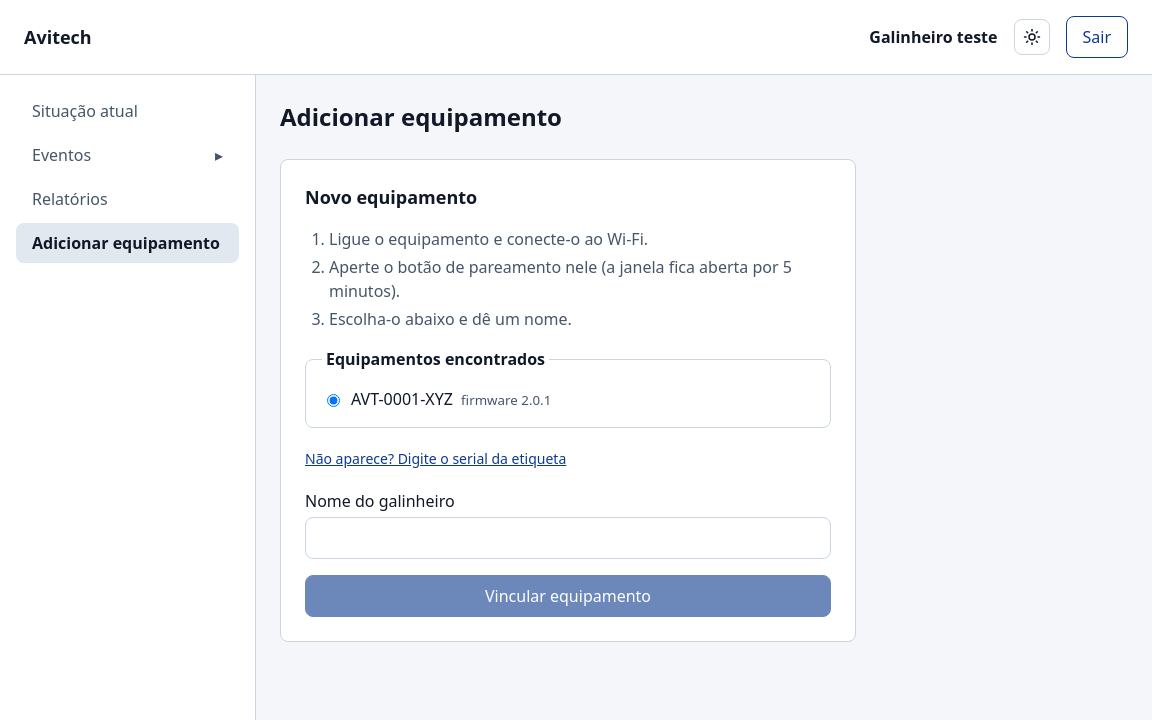
Test: Adicionar equipamento (logado) › erro 409 (PAIRING_CLOSED) mostra a mensagem para o produtor
Expected: the radio button labelled "AVT-0001-XYZ firmware 2.0.1" is shown, [327, 394, 340, 407]
Type "Novo" into the field labelled "Nome do galinheiro".
click(568, 538); type("Novo")  # box [305, 517, 831, 559]
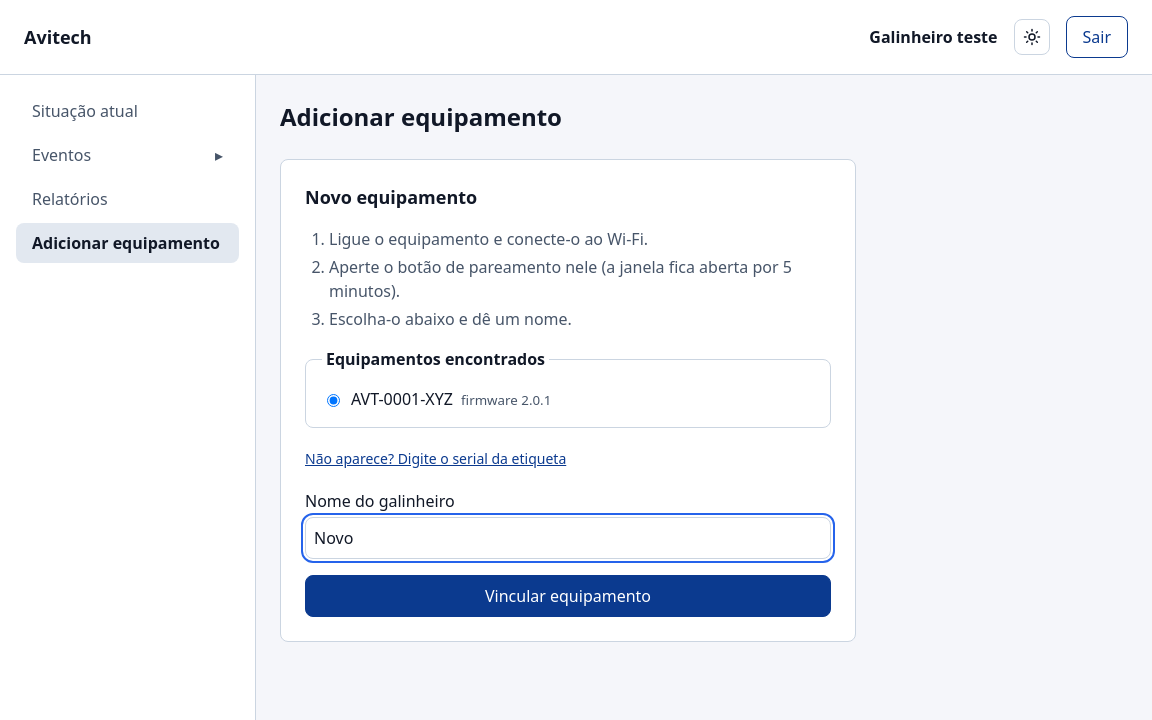
Click the button "Vincular equipamento".
click(568, 596)  # box [305, 575, 831, 617]
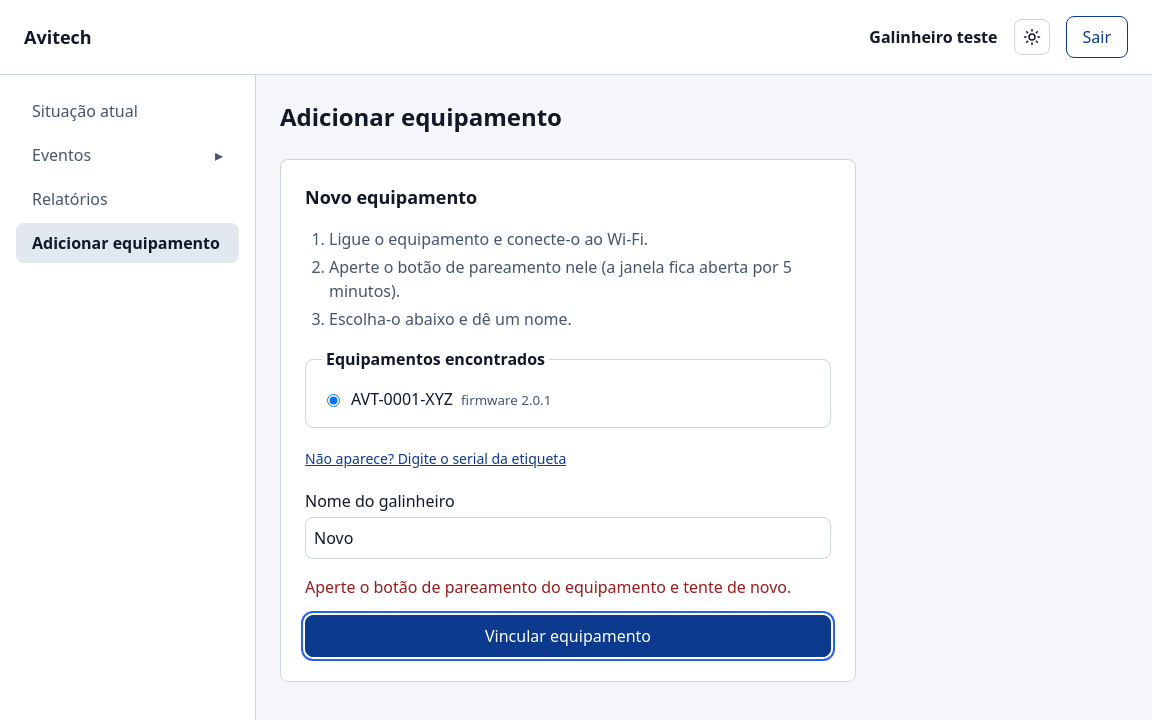
Result: the message shows "Aperte o botão de pareamento" at [305, 576, 791, 598]
